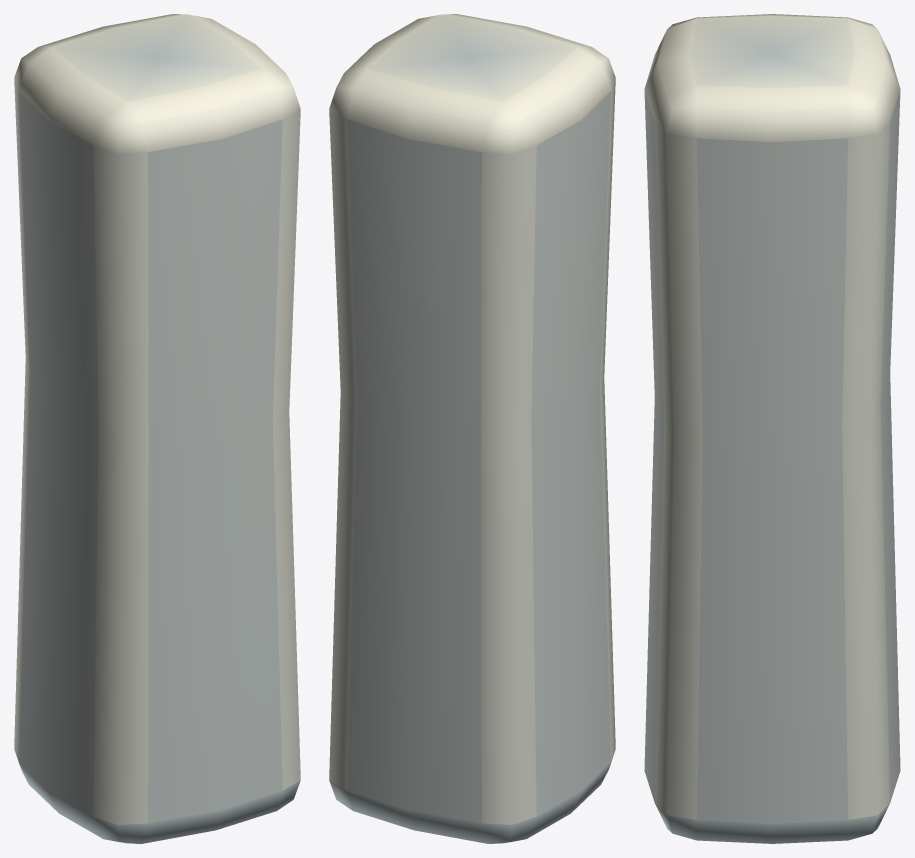
Rendered from Quartz_Fence_Pole.fbx.
3 renders of one model, left to right at view 1: azimuth 30°, elevation 25°; view 2: azimuth 150°, elevation 25°; view 3: azimuth 270°, elevation 25°, orthographic.
Parts seen in each view (by area): view 1: Quartz_Fence_Pole_LOD0; view 2: Quartz_Fence_Pole_LOD0; view 3: Quartz_Fence_Pole_LOD0.
Boxes of the visible parts, box(x1,y1,x2,y2) form: Quartz_Fence_Pole_LOD0: box(14, 14, 300, 843); Quartz_Fence_Pole_LOD0: box(329, 14, 615, 843); Quartz_Fence_Pole_LOD0: box(644, 14, 900, 843).
Size of what is drawn, in the model's own units: 0.3233 by 1.05 by 0.3234.
